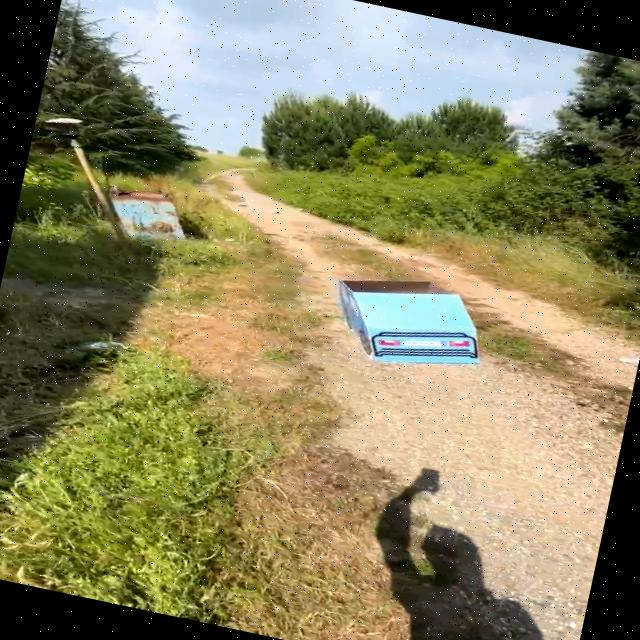blue_car: (308, 256, 525, 399)
